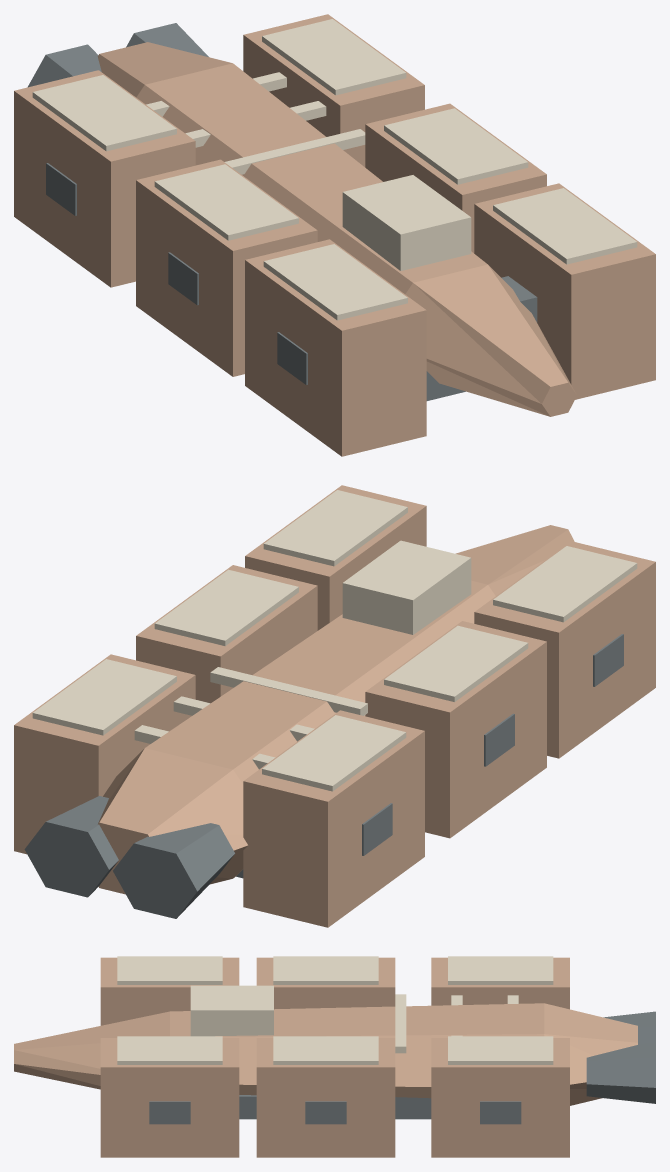
3 renders of one model, top to bottom at view 1: azimuth 30°, elevation 25°; view 2: azimuth 150°, elevation 25°; view 3: azimuth 270°, elevation 25°, orthographic. The views are drawn at different scales.
Size of the model in its own units: 3.67 by 1.62 by 8.98.
